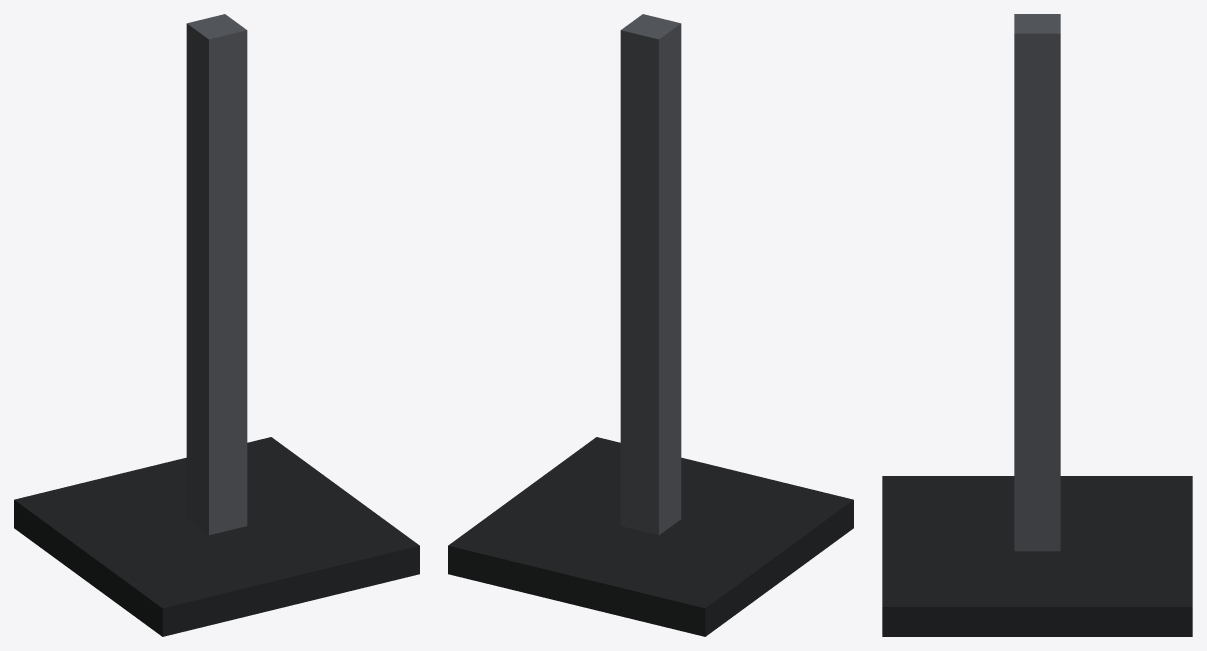
File: SM_Prop_Target_Stand_01.fbx
The picture shows the model from 3 angles, left to right: view 1: azimuth 30°, elevation 25°; view 2: azimuth 150°, elevation 25°; view 3: azimuth 270°, elevation 25°; orthographic projection. The views are drawn at different scales.
Visible parts, largest first — view 1: SM_Prop_Target_Stand_01; view 2: SM_Prop_Target_Stand_01; view 3: SM_Prop_Target_Stand_01.
Boxes of the visible parts, <box> form: SM_Prop_Target_Stand_01: <box>14,14,419,636</box>; SM_Prop_Target_Stand_01: <box>448,14,853,636</box>; SM_Prop_Target_Stand_01: <box>882,14,1192,636</box>.
Size of the model in its own units: 64.44 by 126 by 64.44.
